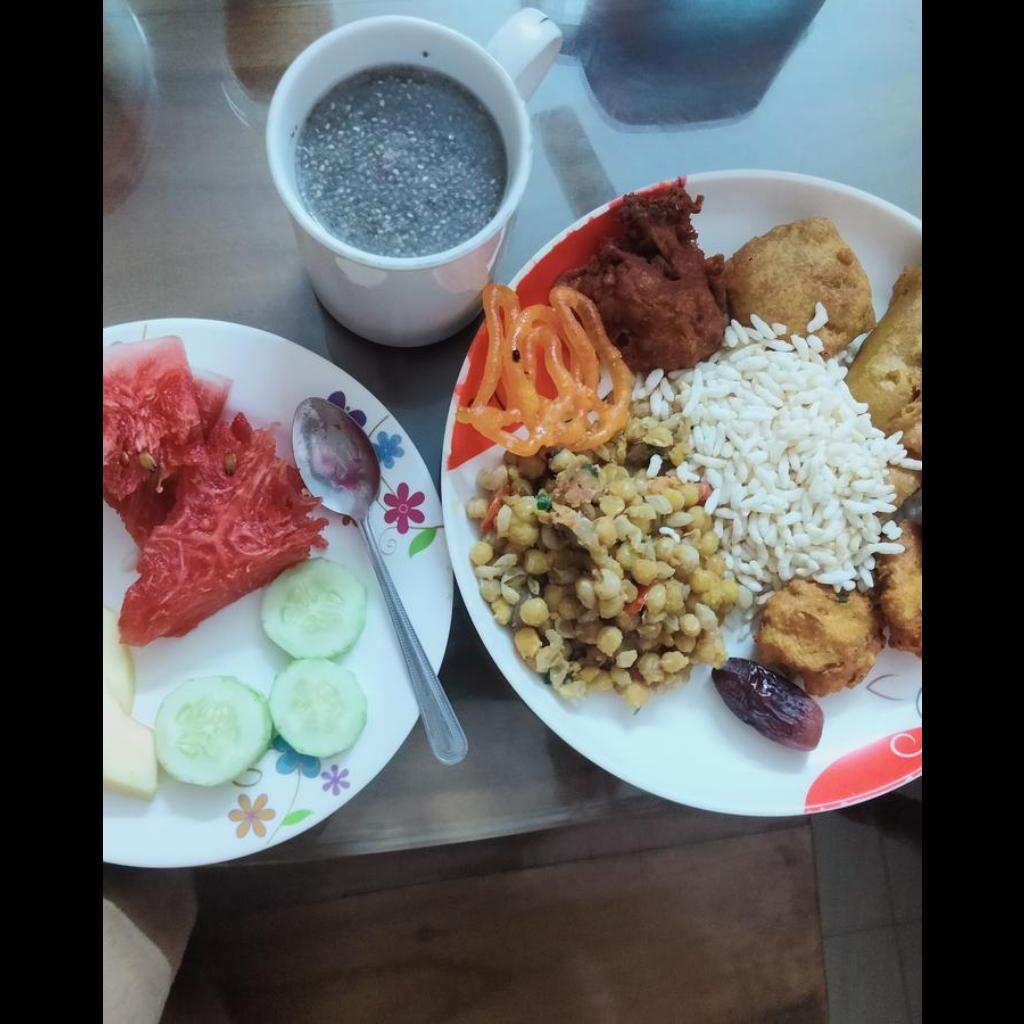beguni: (845, 266, 920, 456)
chop-alu: (730, 220, 881, 335)
cucumber: (154, 564, 361, 787)
daal: (466, 416, 741, 704)
dates: (711, 658, 821, 751)
jilapi: (460, 281, 634, 453)
juice: (293, 67, 505, 257)
peyaju: (587, 180, 725, 367), (753, 546, 920, 686)
puffed-rice: (634, 319, 920, 593)
watermelon: (103, 339, 323, 637)
